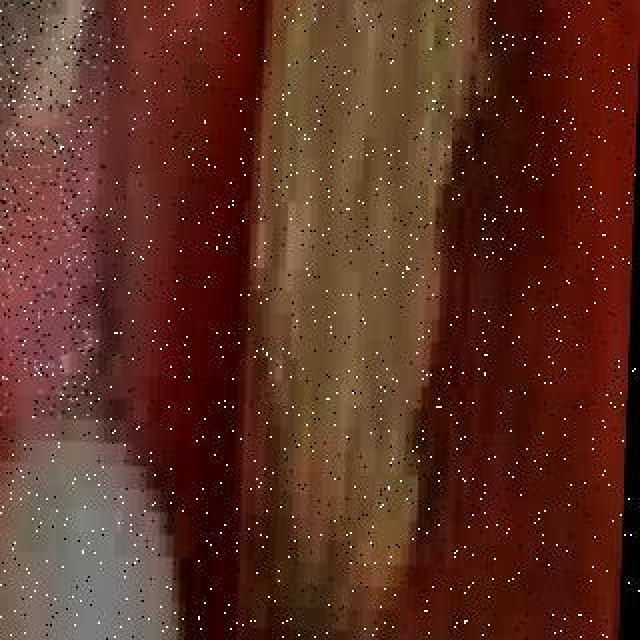cavities: (0, 0, 206, 314)
